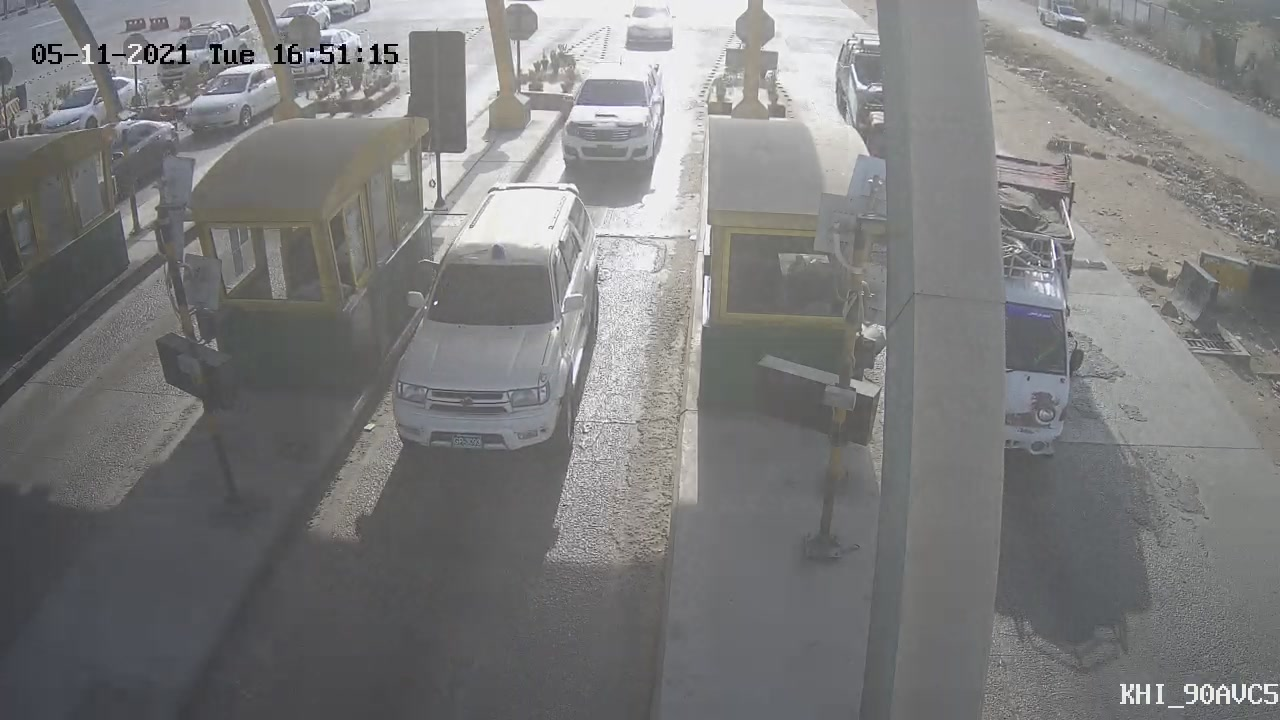F1: (372, 170, 617, 472), (539, 43, 679, 188)
